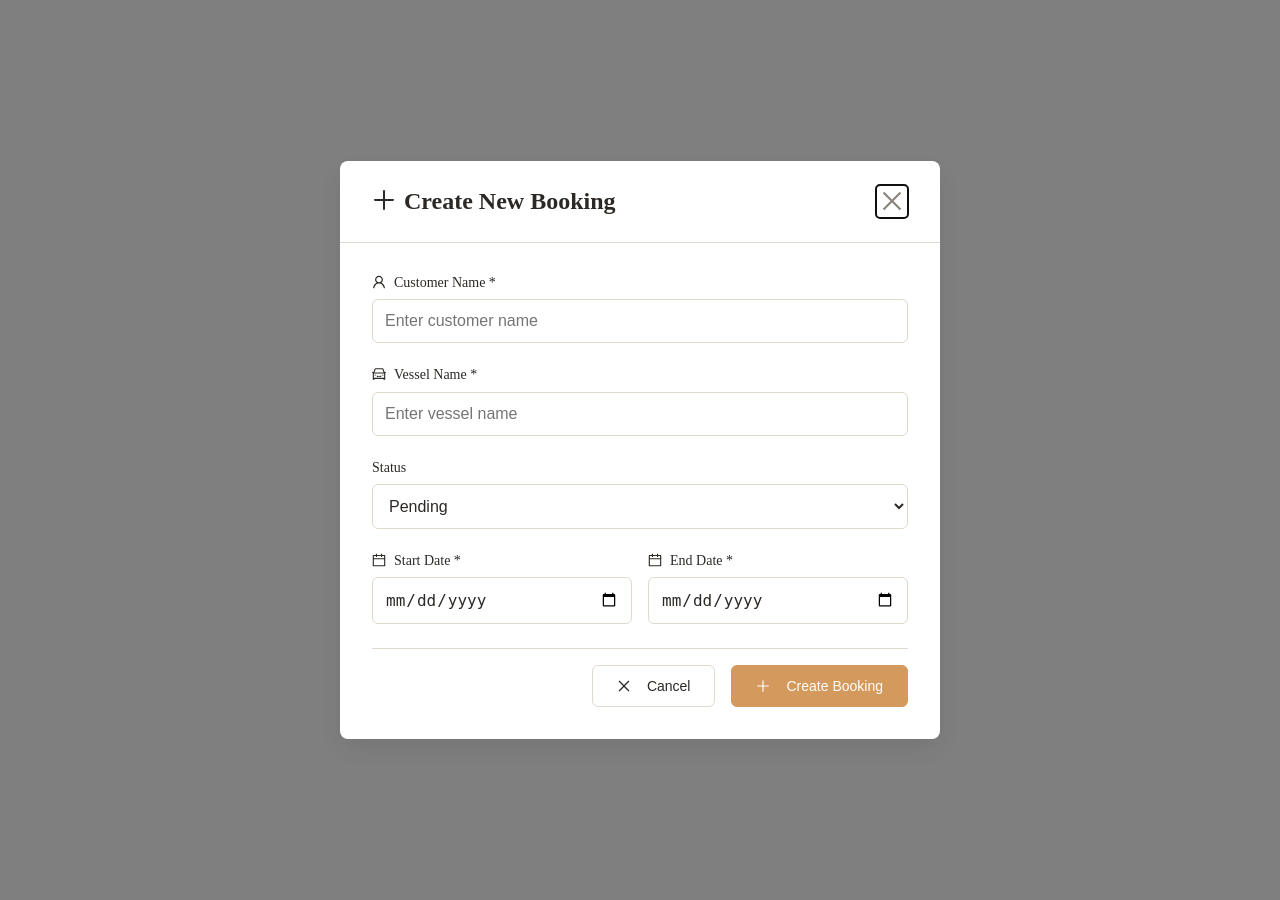
Test: CreateBookingForm › Form Validation › clears field errors when user starts typing
// Submit to show errors
Step 1. Click the button "Create Booking" → x=820, y=686, box 732,665 -> 908,707
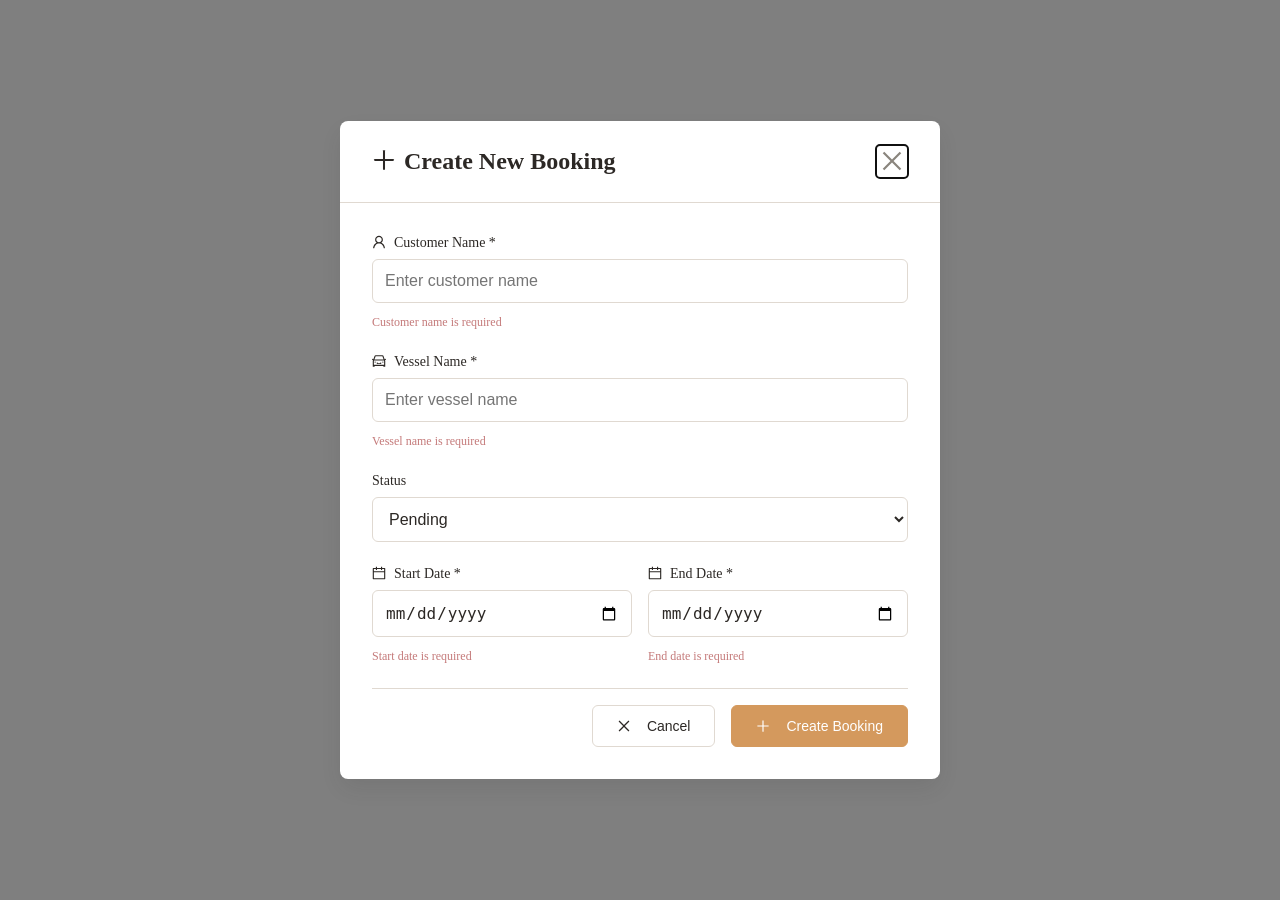
Now the text "Customer name is required" is shown, box 372,315 -> 502,329
// Type in customer field
Step 2. Type "Test" into the field labelled "Customer Name *" → x=640, y=281, box 372,259 -> 908,303
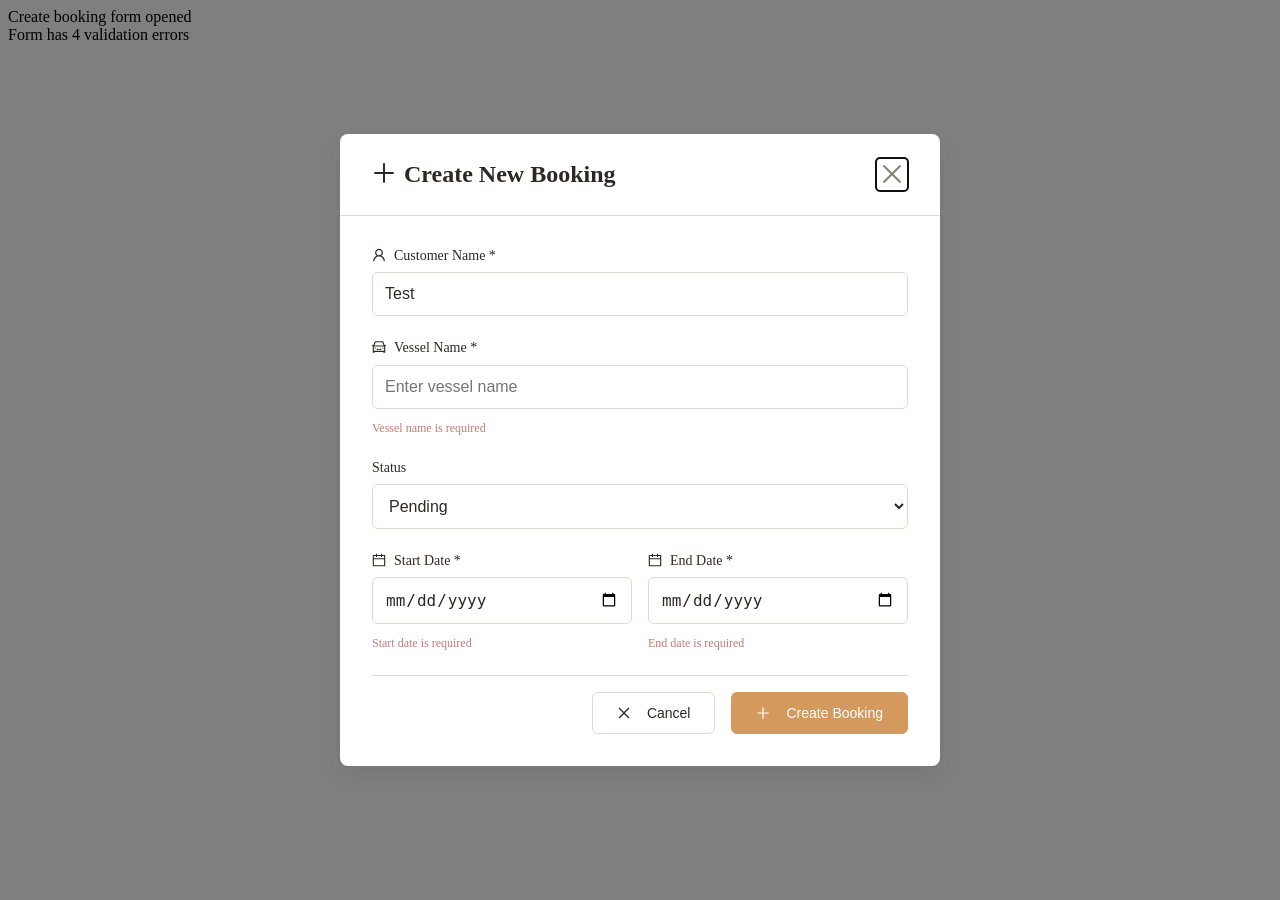
Now the text "Customer name is required" is gone
